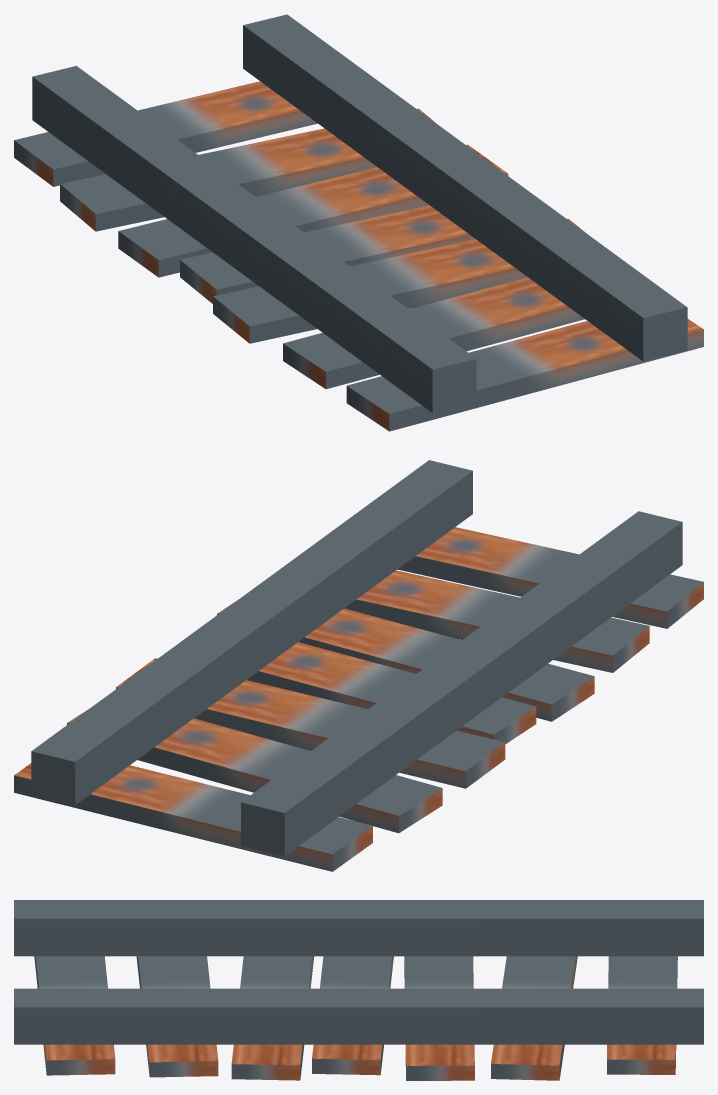
Rendered from short.fbx.
3 views of the same model, one above another, from view 1: azimuth 30°, elevation 25°; view 2: azimuth 150°, elevation 25°; view 3: azimuth 270°, elevation 25° (orthographic). The views are drawn at different scales.
Visible parts, largest first — view 1: short; view 2: short; view 3: short.
Part boxes in pixels (x1=…): short: x1=14, y1=14, x2=703, y2=431; short: x1=14, y1=460, x2=703, y2=871; short: x1=14, y1=900, x2=703, y2=1080.
Bounding box in the file's own units: 12.35 × 2.08 × 24.37.
